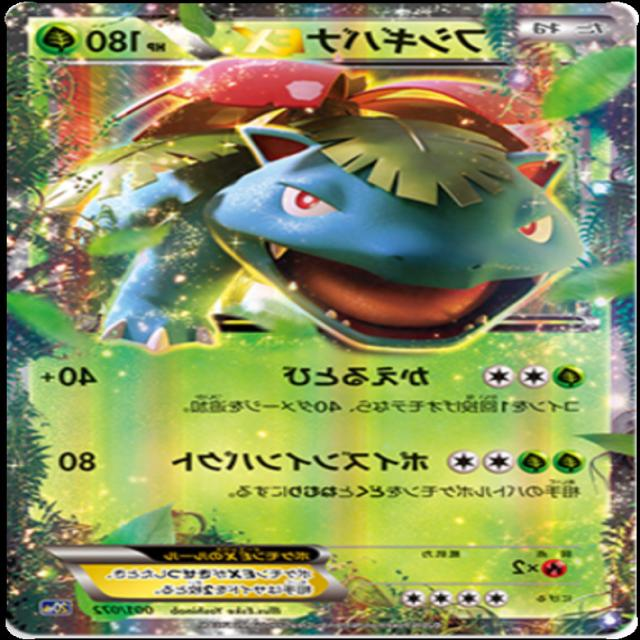Venusaur: (95, 68, 574, 348)
